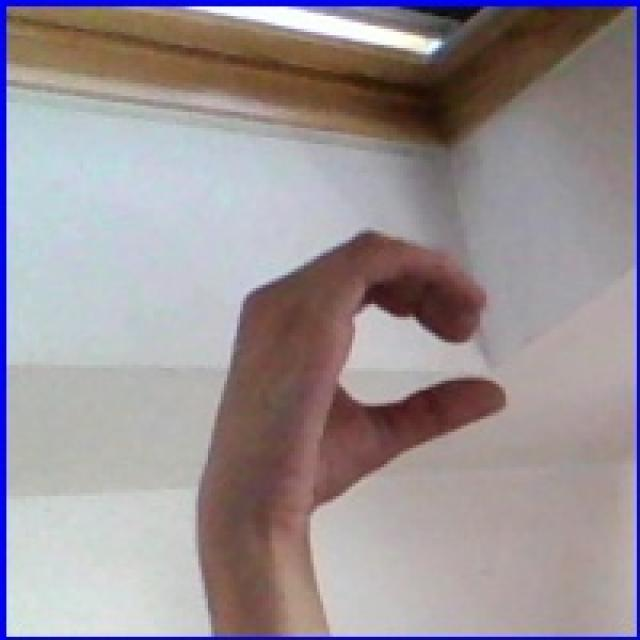Letra C: (169, 217, 537, 595)
